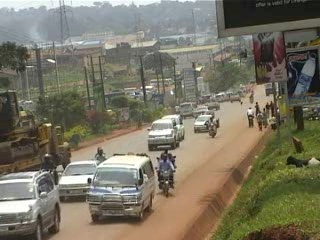Car: (0, 164, 65, 240), (56, 157, 100, 202), (144, 117, 179, 152), (163, 112, 187, 140), (191, 112, 214, 133), (194, 104, 211, 117)
Motorcycle: (155, 156, 176, 197), (40, 152, 60, 184), (156, 146, 177, 171), (204, 116, 220, 140), (92, 144, 107, 163)
